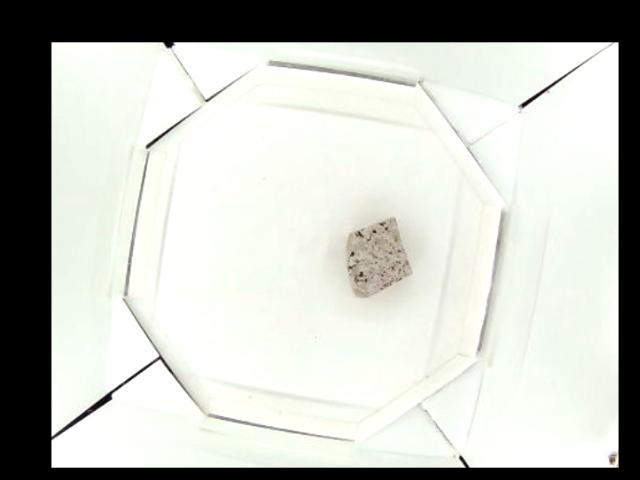China: (344, 217, 411, 299)
